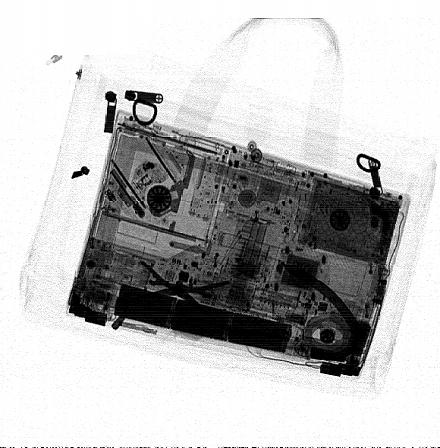Scissors: (128, 256, 237, 318)
